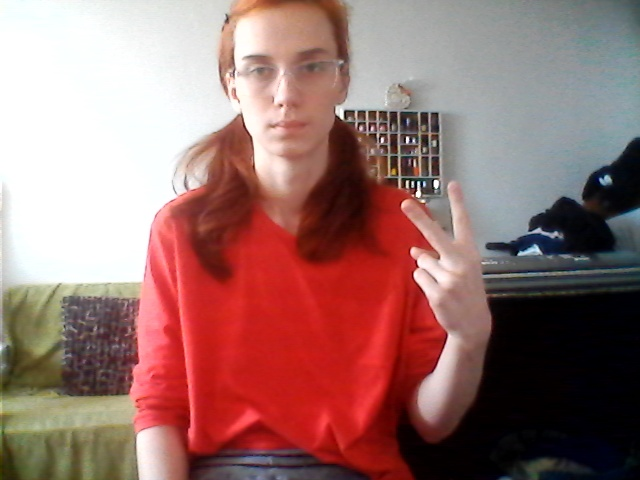v: (393, 176, 506, 347)
